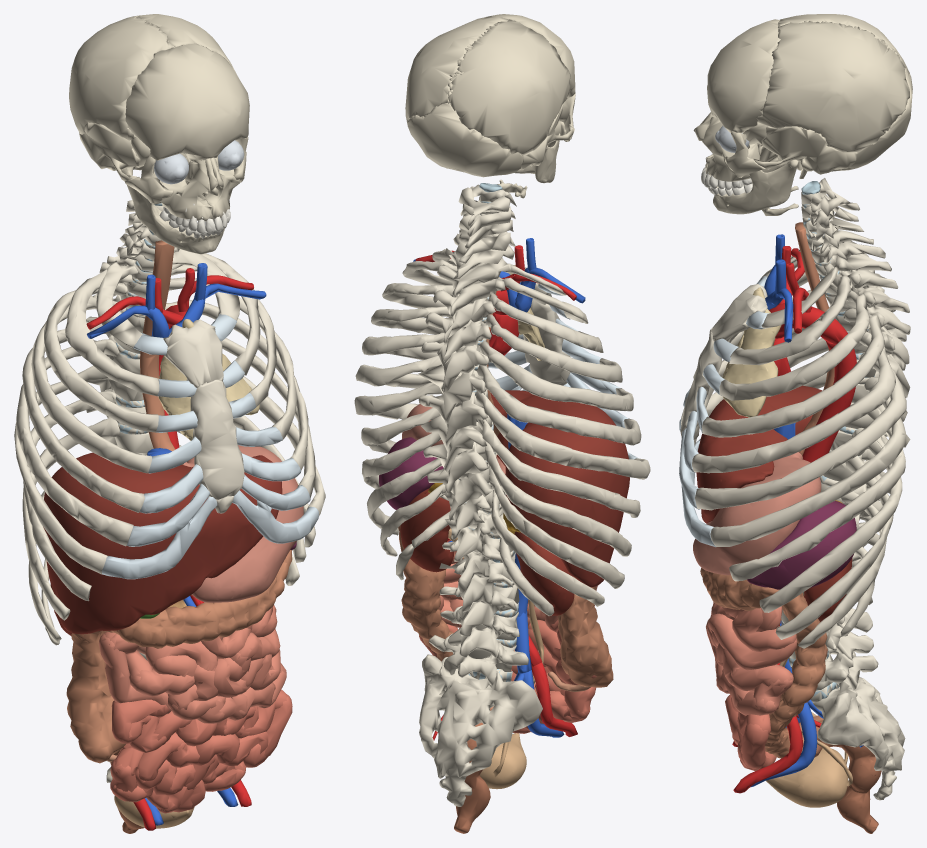
Rendered from anatomyverse-organs.glb.
The picture shows the model from 3 angles, left to right: view 1: azimuth 30°, elevation 25°; view 2: azimuth 150°, elevation 25°; view 3: azimuth 270°, elevation 25°; orthographic projection. The views are drawn at different scales.
Parts seen in each view (by area): view 1: rib_cage_R, liver, ileum, jejunum, skull_R, skull, rib_cage_L, large_intestine, costal_cartilages_R, sternum, costal_cartilages_L, vertebral_column (+11 smaller); view 2: vertebral_column, rib_cage_R, rib_cage_L, skull_R, liver, large_intestine, skull, skull_L, ileum, kidney_L, kidney_R, costal_cartilages_R (+13 smaller); view 3: rib_cage_L, skull_L, vertebral_column, skull, jejunum, large_intestine, stomach, liver, costal_cartilages_L, spleen, sternum, urinary_bladder (+15 smaller).
Boxes of the visible parts, <box> form: rib_cage_R: <box>14,262,159,645</box>; liver: <box>43,452,282,634</box>; ileum: <box>110,689,292,813</box>; jejunum: <box>98,605,286,723</box>; skull_R: <box>69,16,217,221</box>; skull: <box>125,43,249,195</box>; rib_cage_L: <box>165,249,325,585</box>; large_intestine: <box>66,550,292,763</box>; costal_cartilages_R: <box>101,333,217,579</box>; sternum: <box>163,319,244,513</box>; costal_cartilages_L: <box>211,314,318,543</box>; vertebral_column: <box>86,200,179,782</box>; vertebral_column: <box>418,184,542,806</box>; rib_cage_R: <box>476,264,650,615</box>; rib_cage_L: <box>354,249,457,580</box>; skull_R: <box>447,19,575,169</box>; liver: <box>490,390,629,587</box>; large_intestine: <box>398,525,613,708</box>; skull: <box>407,14,575,177</box>; skull_L: <box>405,16,509,124</box>; ileum: <box>419,620,596,733</box>; kidney_L: <box>400,488,453,572</box>; kidney_R: <box>514,531,574,615</box>; costal_cartilages_R: <box>538,284,638,459</box>; rib_cage_L: <box>692,263,906,648</box>; skull_L: <box>695,21,909,181</box>; vertebral_column: <box>781,178,910,800</box>; skull: <box>707,19,912,171</box>; jejunum: <box>706,602,797,715</box>; large_intestine: <box>700,568,834,758</box>; stomach: <box>693,452,821,575</box>; liver: <box>696,385,822,523</box>; costal_cartilages_L: <box>679,311,768,547</box>; spleen: <box>747,501,856,589</box>; sternum: <box>680,284,767,446</box>; urinary_bladder: <box>766,748,848,807</box>.
Size of the model in its own units: 0.3007 by 0.8826 by 0.2307.
